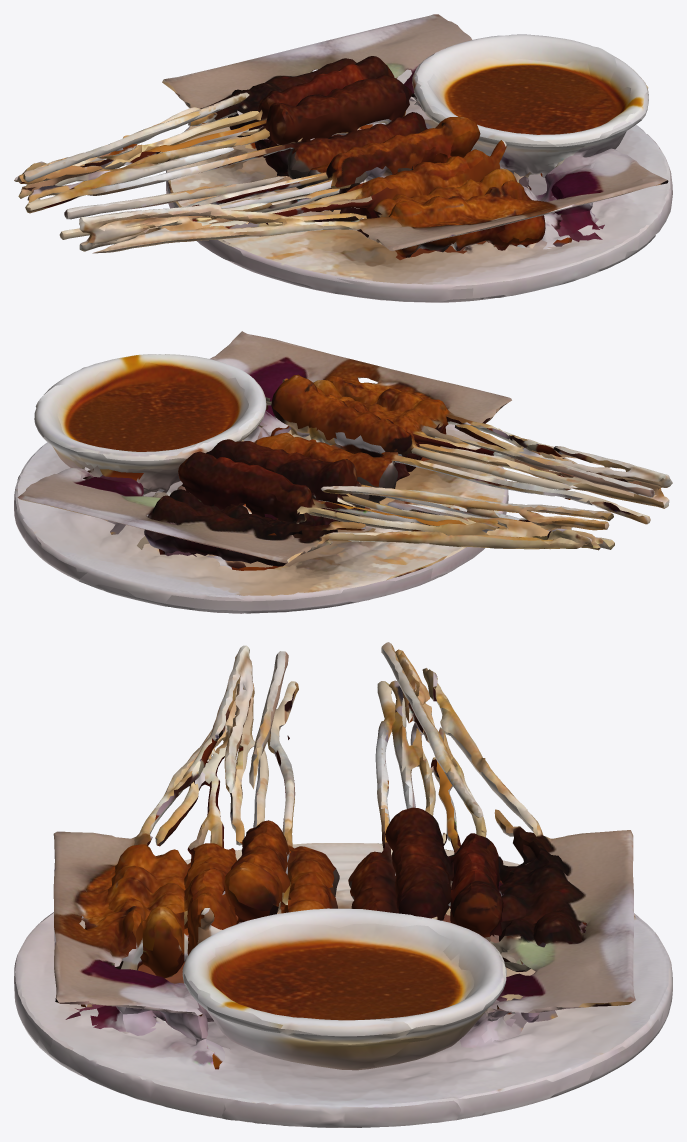
The model's file is satay 1.fbx.
3 views of the same model, one above another, from view 1: azimuth 30°, elevation 25°; view 2: azimuth 150°, elevation 25°; view 3: azimuth 270°, elevation 25° (orthographic). The views are drawn at different scales.
Parts seen in each view (by area): view 1: tmpnq27vj9d.ply; view 2: tmpnq27vj9d.ply; view 3: tmpnq27vj9d.ply.
Boxes of the visible parts, left/top/right/bottom form: tmpnq27vj9d.ply: left=14, top=14, right=672, bottom=302; tmpnq27vj9d.ply: left=14, top=331, right=672, bottom=613; tmpnq27vj9d.ply: left=14, top=642, right=672, bottom=1127.
Size of the model in its own units: 197 by 33.2 by 150.
